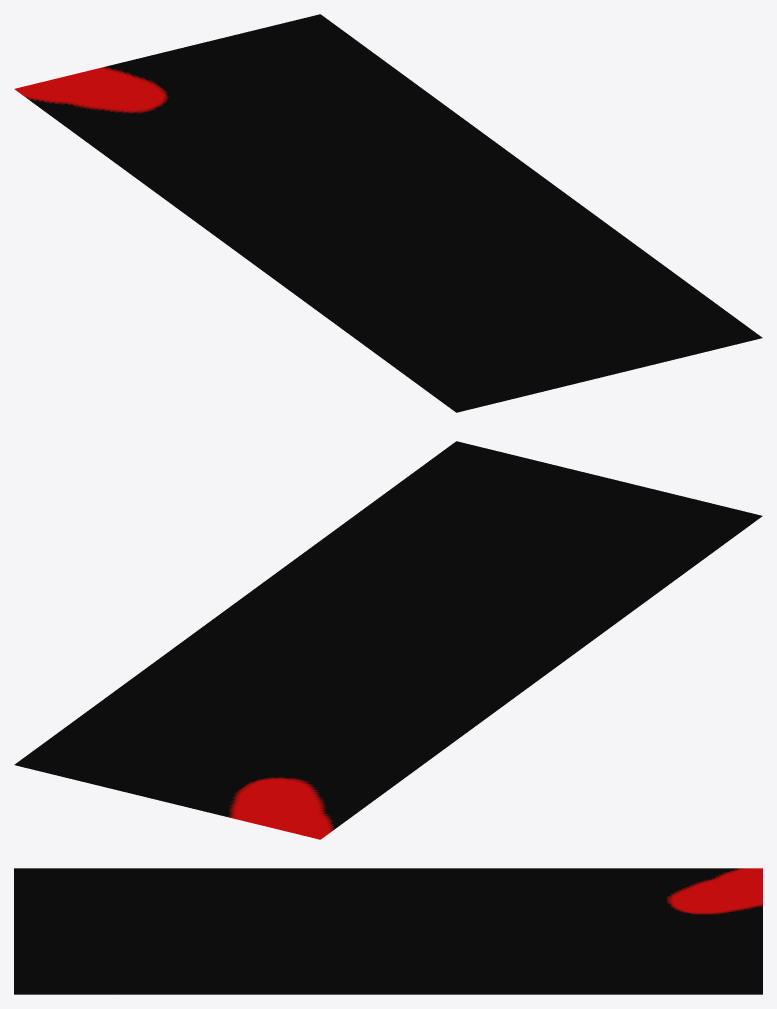
The model's file is Fluvial_Plane_8_alt.fbx.
3 renders of one model, top to bottom at view 1: azimuth 30°, elevation 25°; view 2: azimuth 150°, elevation 25°; view 3: azimuth 270°, elevation 25°, orthographic. The views are drawn at different scales.
Parts seen in each view (by area): view 1: Plane_test_8_alt; view 2: Plane_test_8_alt; view 3: Plane_test_8_alt.
Part boxes in pixels (bbox=[...]): Plane_test_8_alt: bbox=[14, 14, 762, 412]; Plane_test_8_alt: bbox=[14, 441, 762, 839]; Plane_test_8_alt: bbox=[14, 868, 762, 994].
Size of the model in its own units: 8000 by 0 by 20000.
